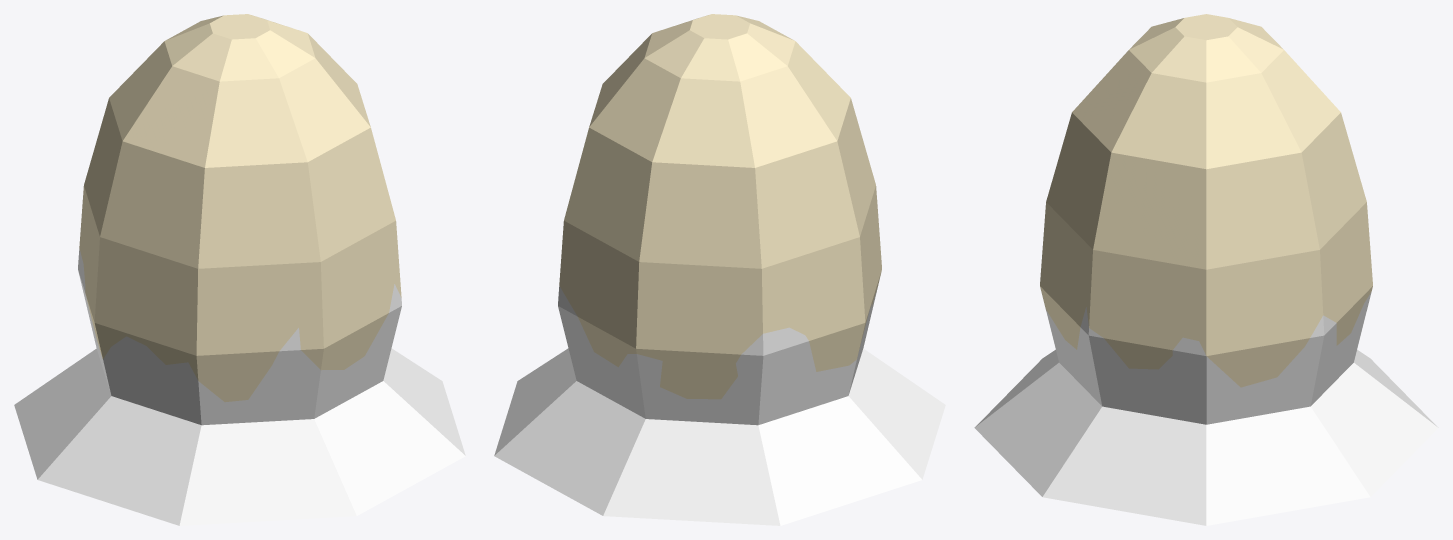
The model's file is Egg_Webbed_01.fbx.
The picture shows the model from 3 angles, left to right: view 1: azimuth 30°, elevation 25°; view 2: azimuth 150°, elevation 25°; view 3: azimuth 270°, elevation 25°; orthographic projection.
Visible parts, largest first — view 1: Egg_Webbed_01; view 2: Egg_Webbed_01; view 3: Egg_Webbed_01.
Boxes of the visible parts, x1,y1,x2,y2 form: Egg_Webbed_01: (14,14,465,525); Egg_Webbed_01: (494,14,945,525); Egg_Webbed_01: (974,14,1438,525).
Size of the model in its own units: 29.16 by 27.78 by 29.16.
